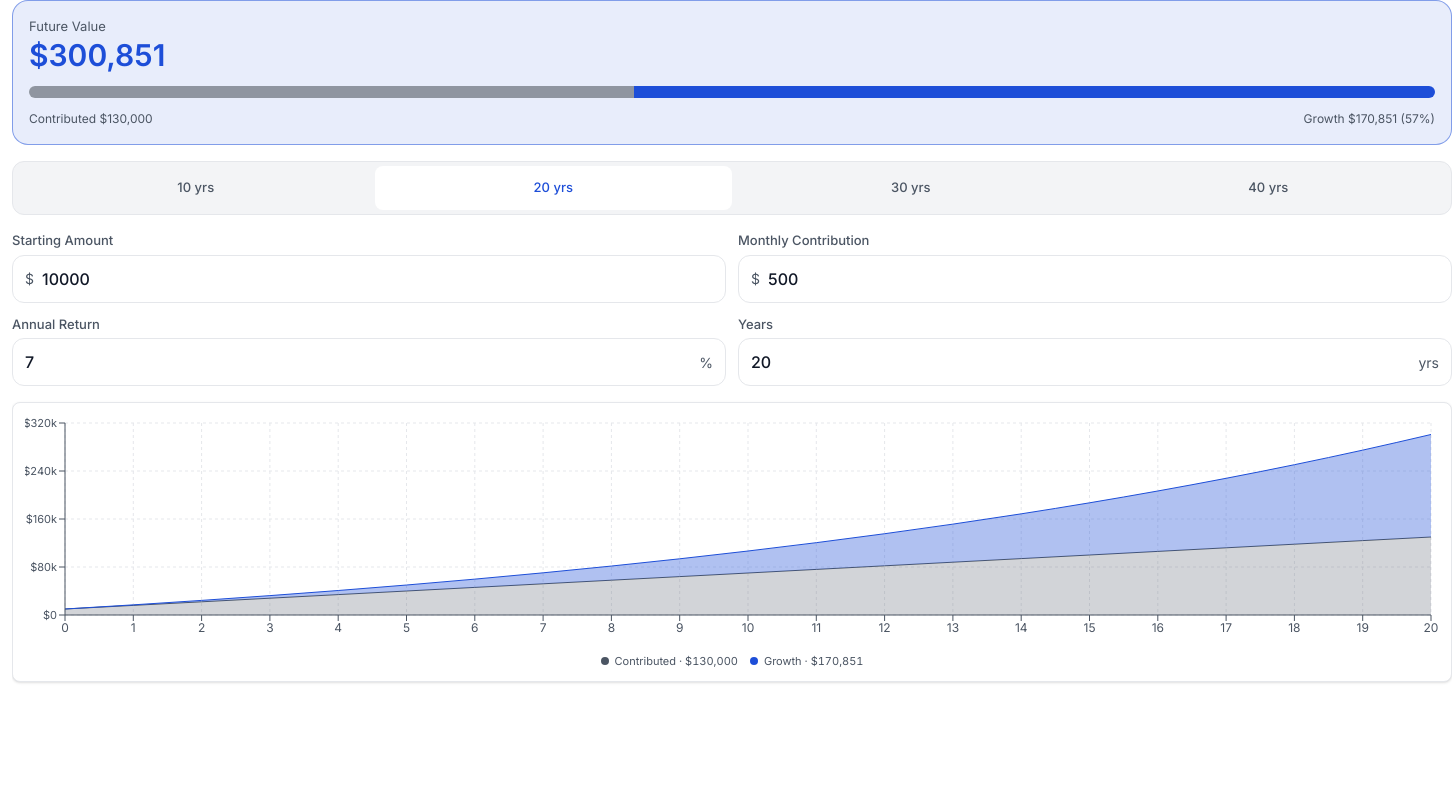
Test: changes the horizon with a year preset
Click the button "30 yrs" at [911, 188], box x1=732 y1=166 x2=1090 y2=210
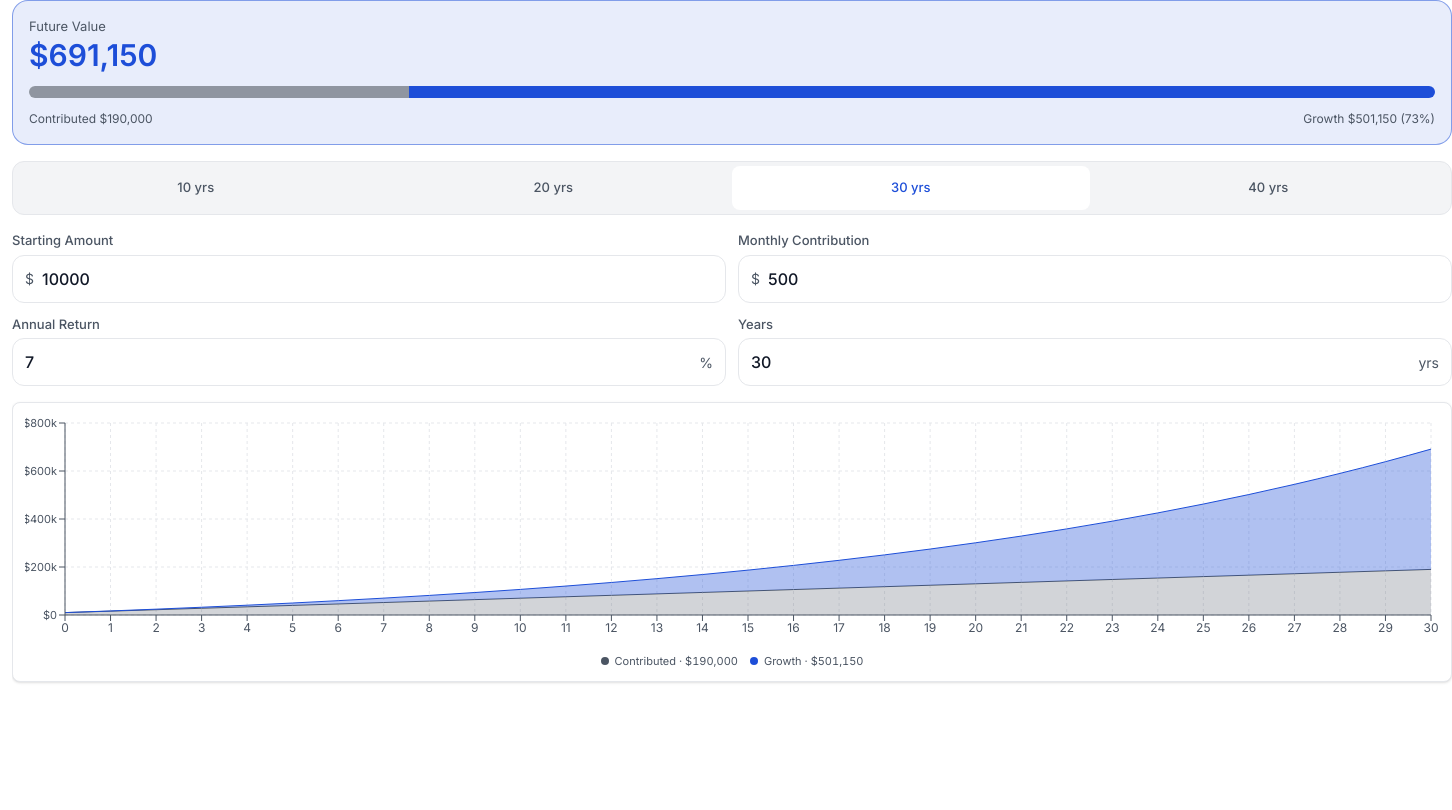
Check: the field labelled "Years" holds "30", box x1=751 y1=350 x2=1410 y2=374
